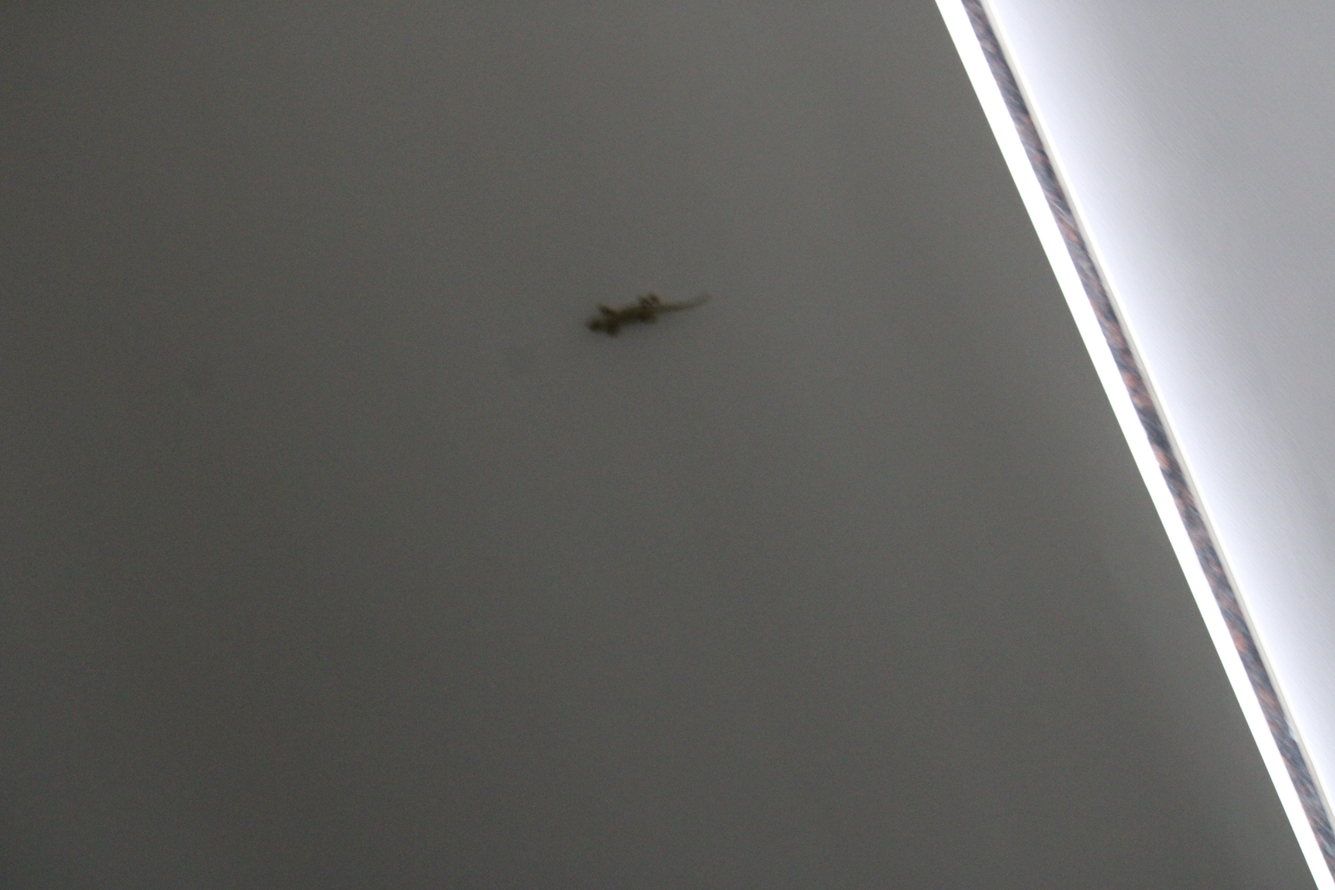lizard: (570, 279, 711, 346)
